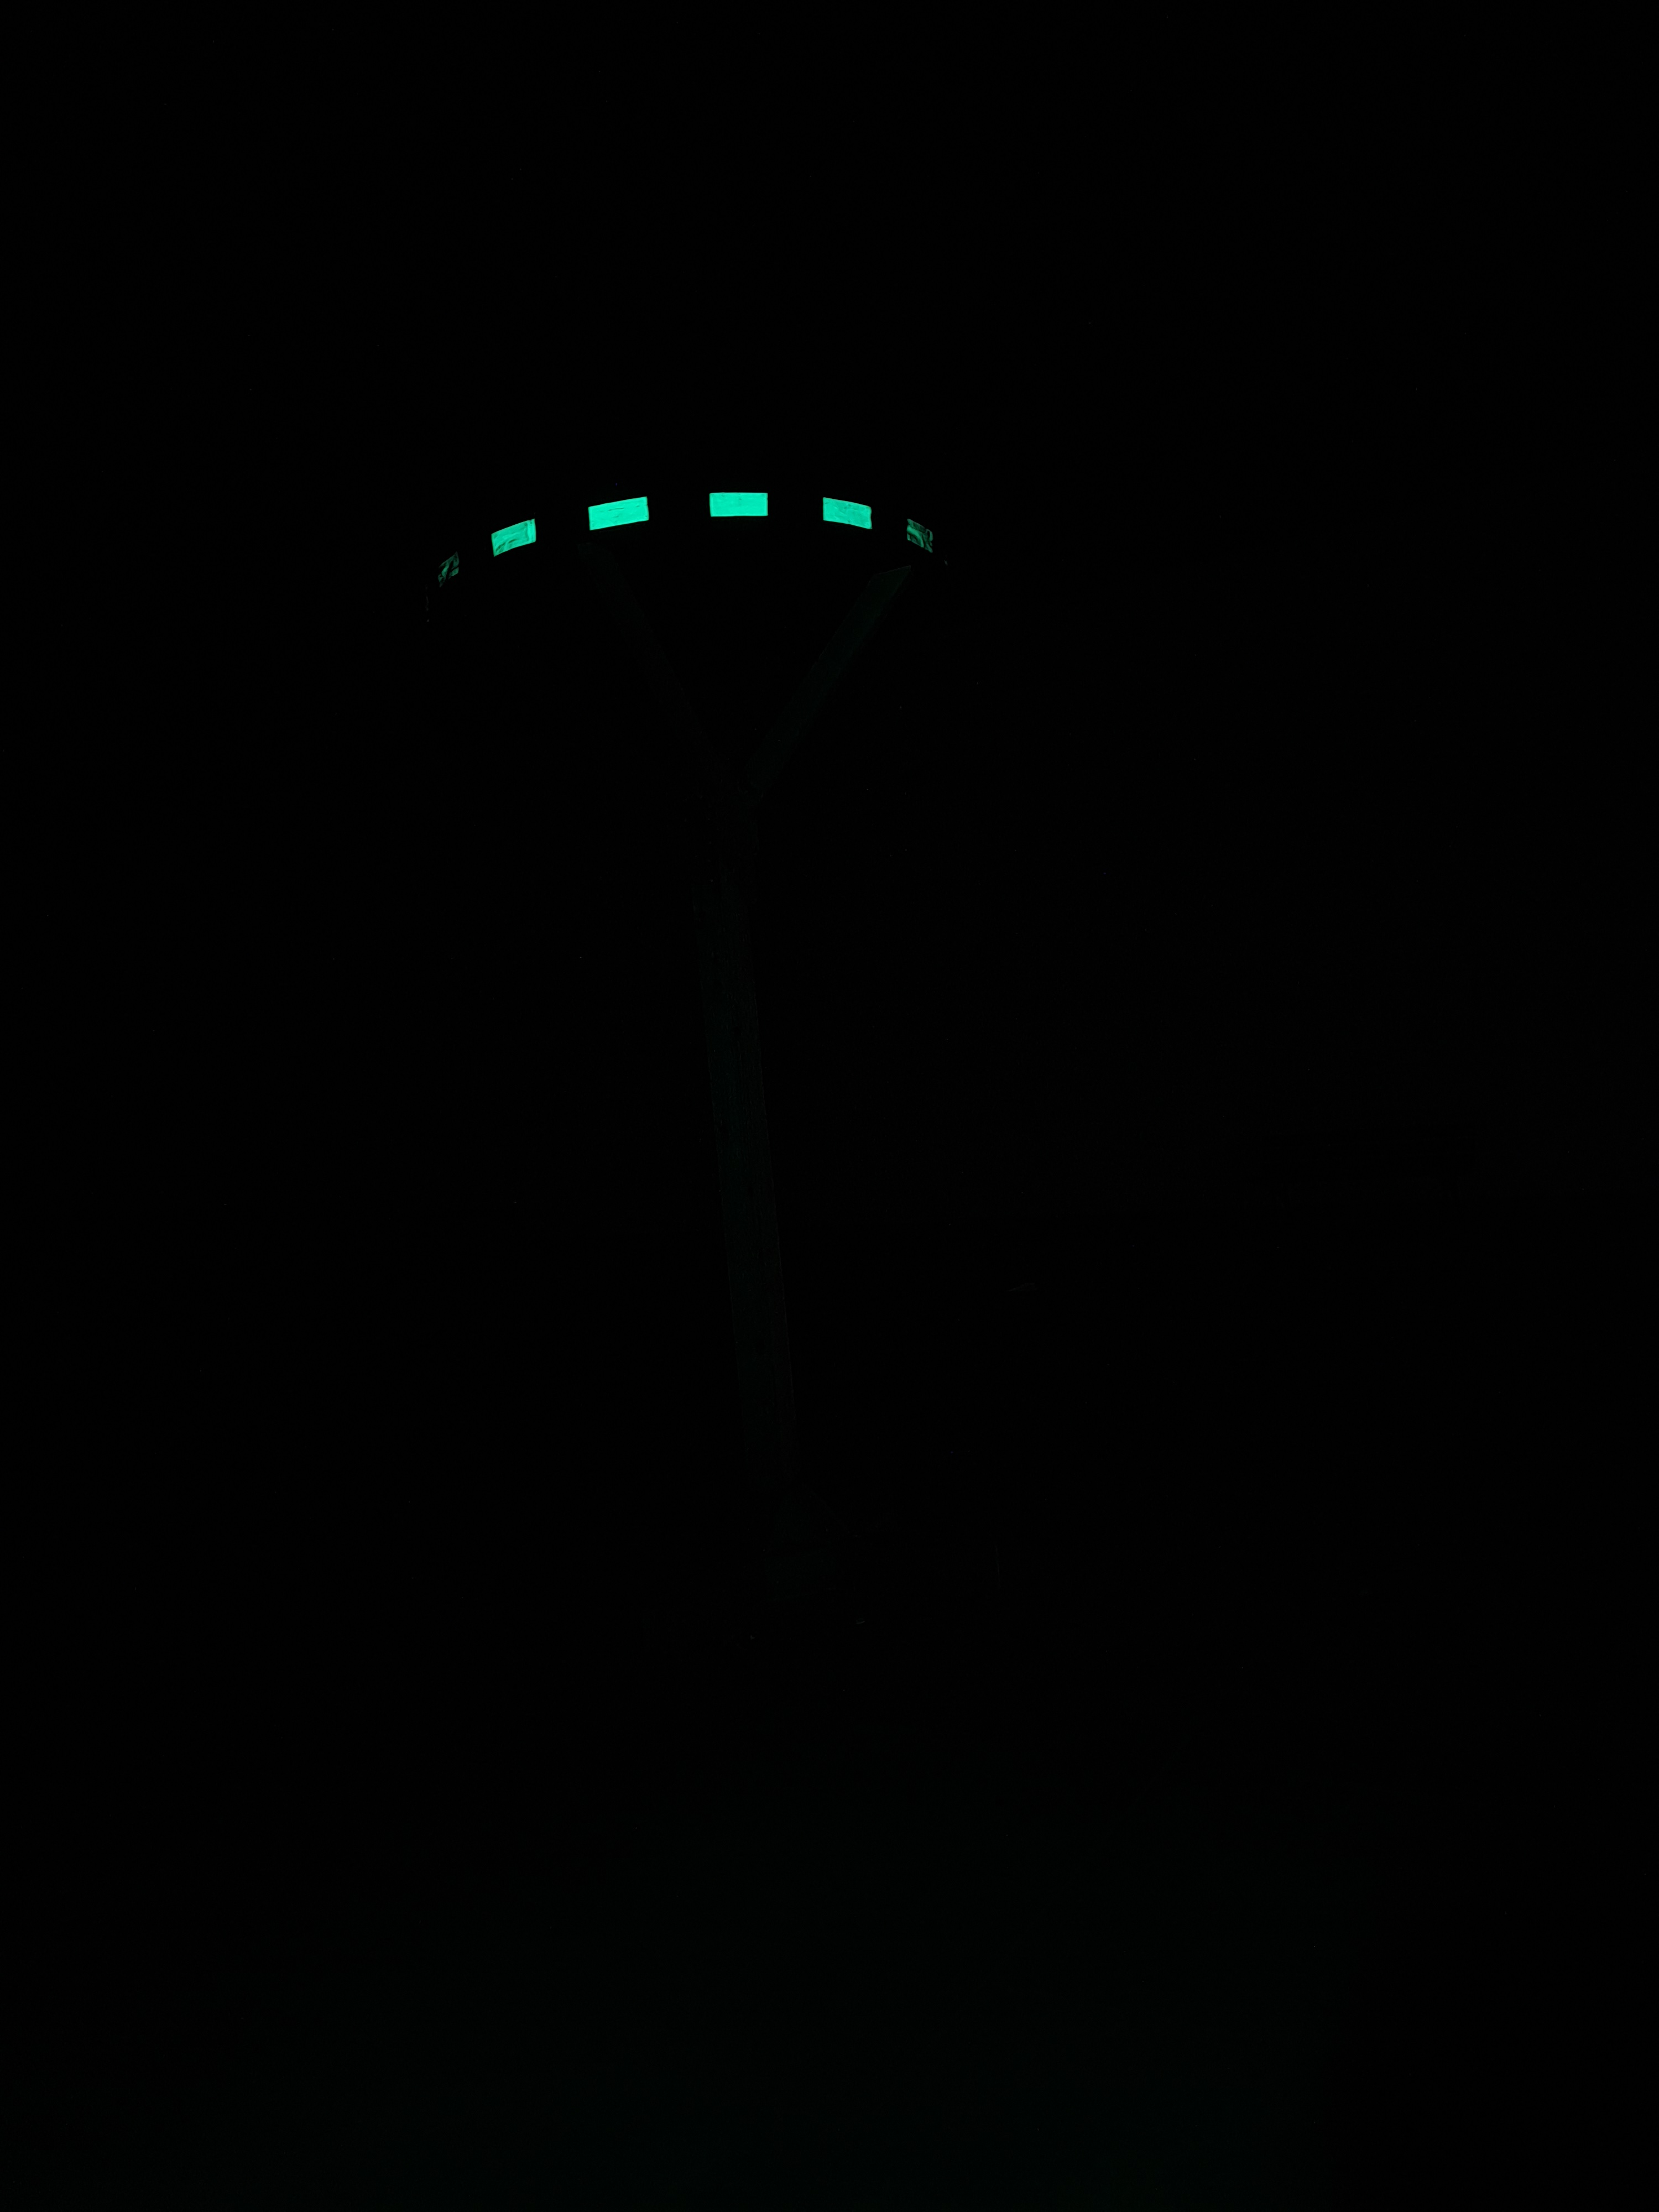hoop: (387, 481, 951, 597)
